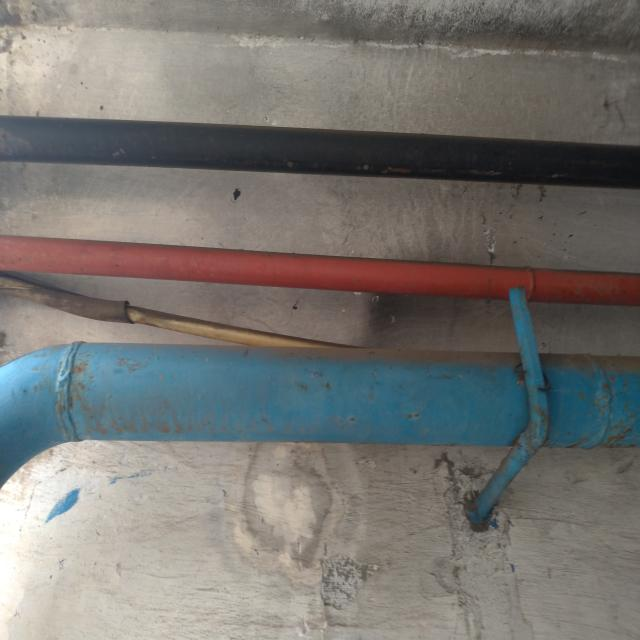gas: (1, 343, 638, 491), (0, 237, 637, 306), (1, 117, 636, 186)
